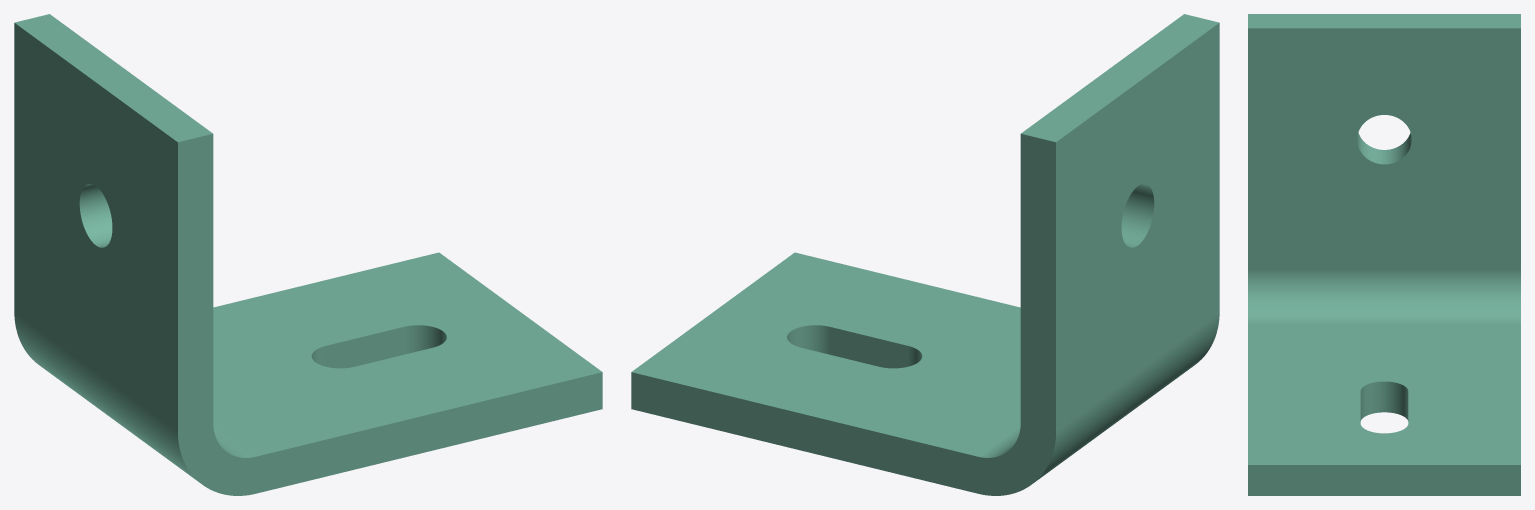
File: l_bracket.glb
3 renders of one model, left to right at view 1: azimuth 30°, elevation 25°; view 2: azimuth 150°, elevation 25°; view 3: azimuth 270°, elevation 25°, orthographic. The views are drawn at different scales.
Visible parts, largest first — view 1: L bracket; view 2: L bracket; view 3: L bracket.
Boxes of the visible parts, <box> form: L bracket: <box>14,14,602,495</box>; L bracket: <box>631,14,1219,495</box>; L bracket: <box>1248,14,1520,495</box>.
Size of the model in its own units: 60 by 50 by 40.
